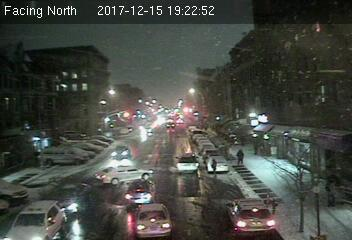car: (4, 200, 65, 240), (226, 198, 276, 233), (51, 180, 92, 216), (133, 202, 173, 238), (125, 177, 156, 207), (174, 152, 199, 175), (207, 155, 228, 172), (111, 145, 132, 159)
pedestrian: (235, 148, 244, 164), (210, 158, 218, 176)
